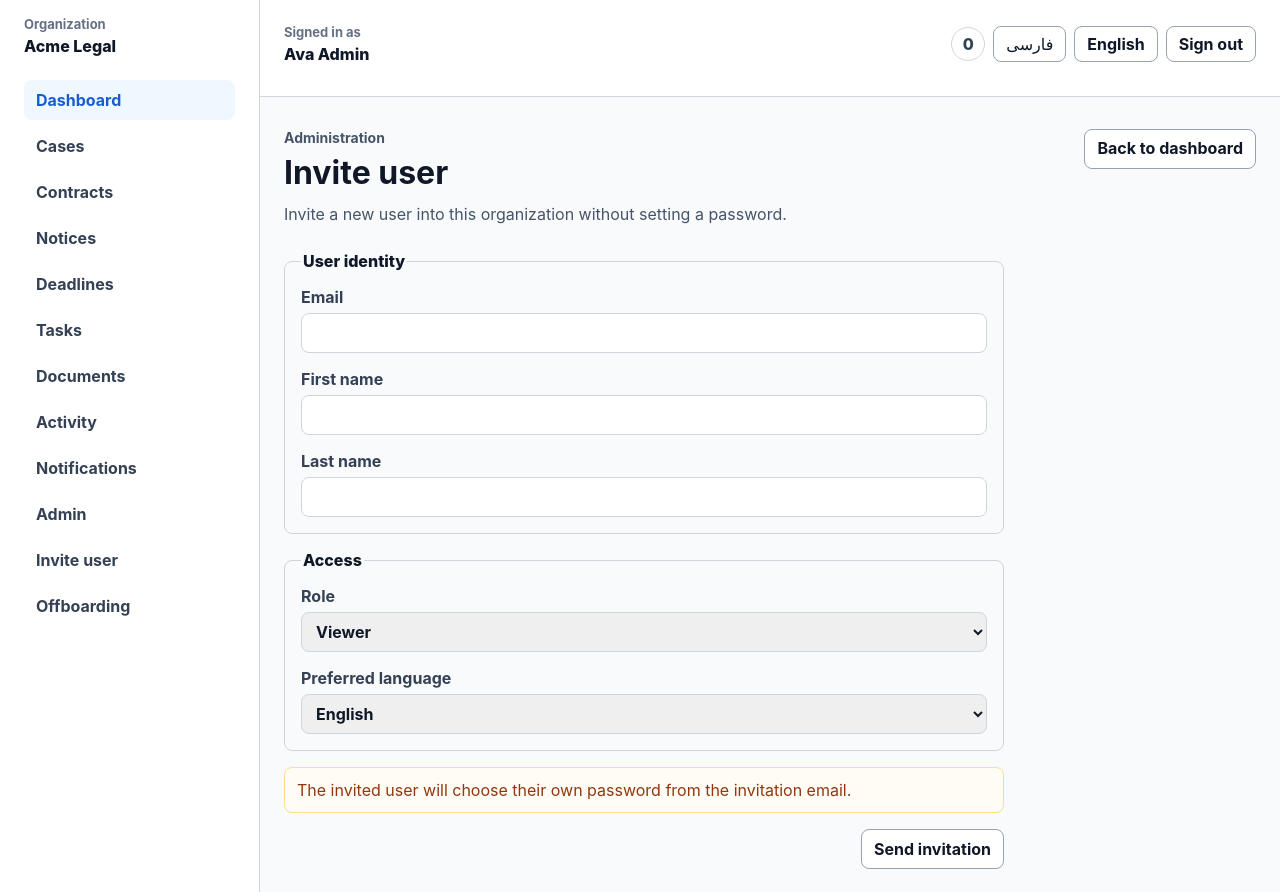
it: shows duplicate email and rate limit errors safely
Type "new.user@example.test" into the field labelled "Email" at (644, 333), box left=301, top=313, right=987, bottom=353
Type "New" into the field labelled "First name" at (644, 415), box left=301, top=395, right=987, bottom=435
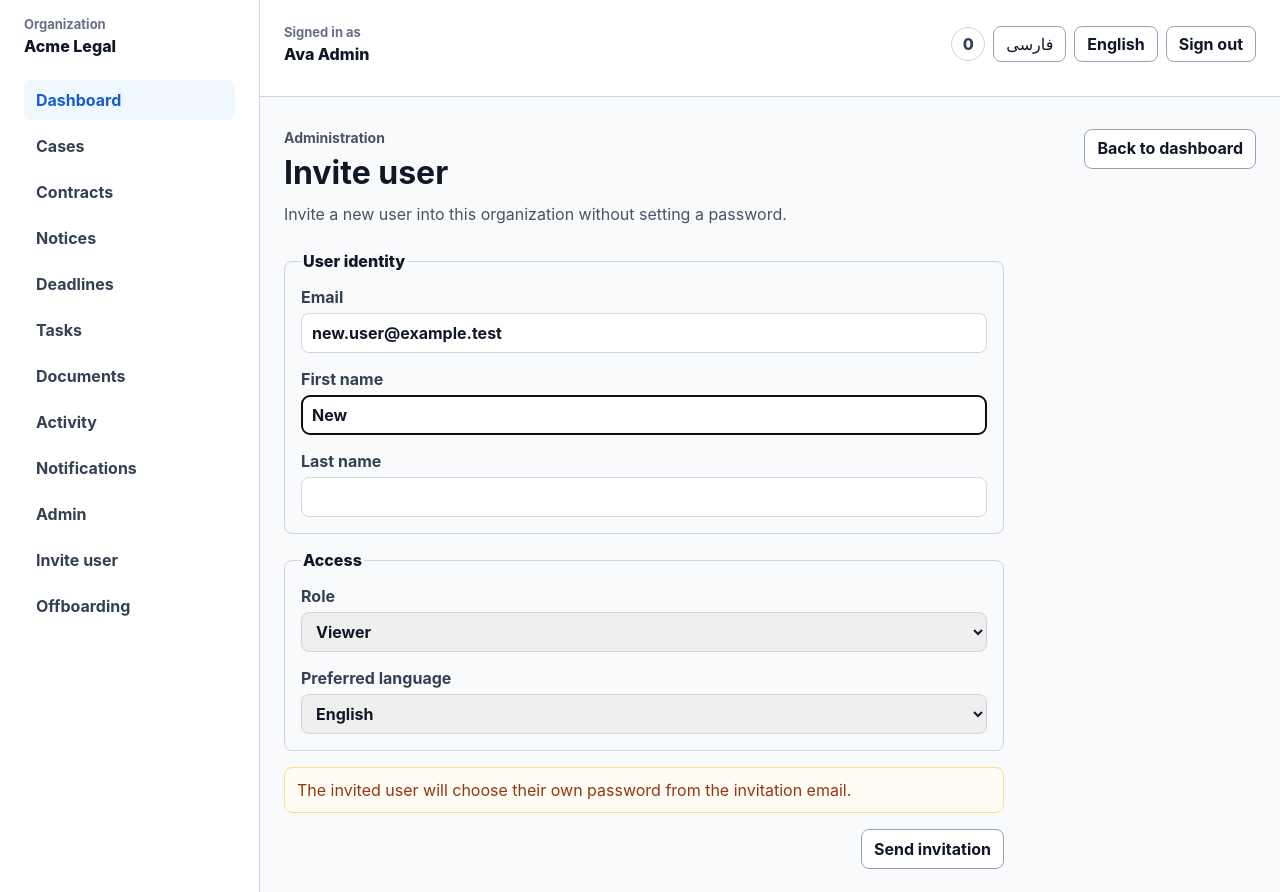
Type "User" into the field labelled "Last name" at (644, 497), box left=301, top=477, right=987, bottom=517
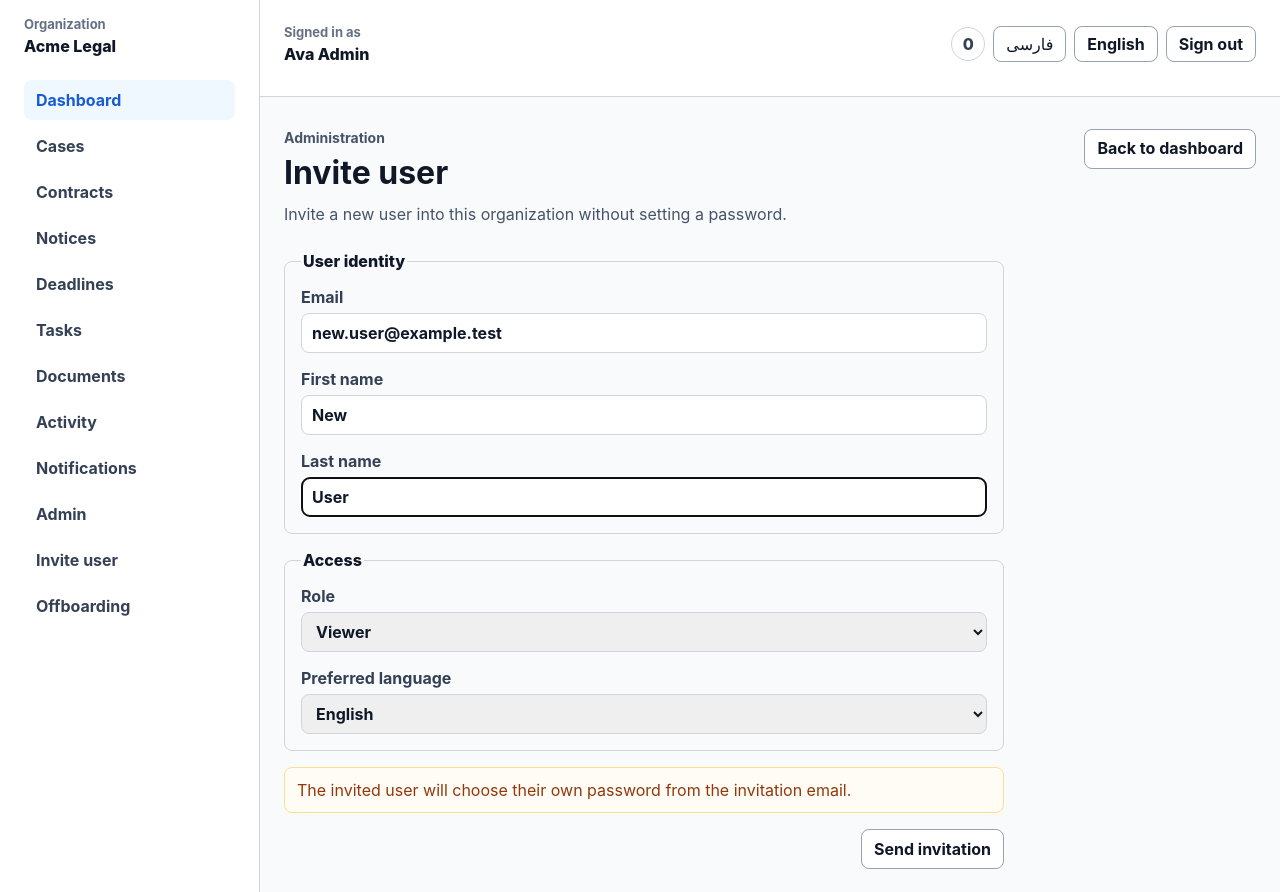
Select "Legal Manager" in the dropdown labelled "Role" at (644, 632), box left=301, top=612, right=987, bottom=652
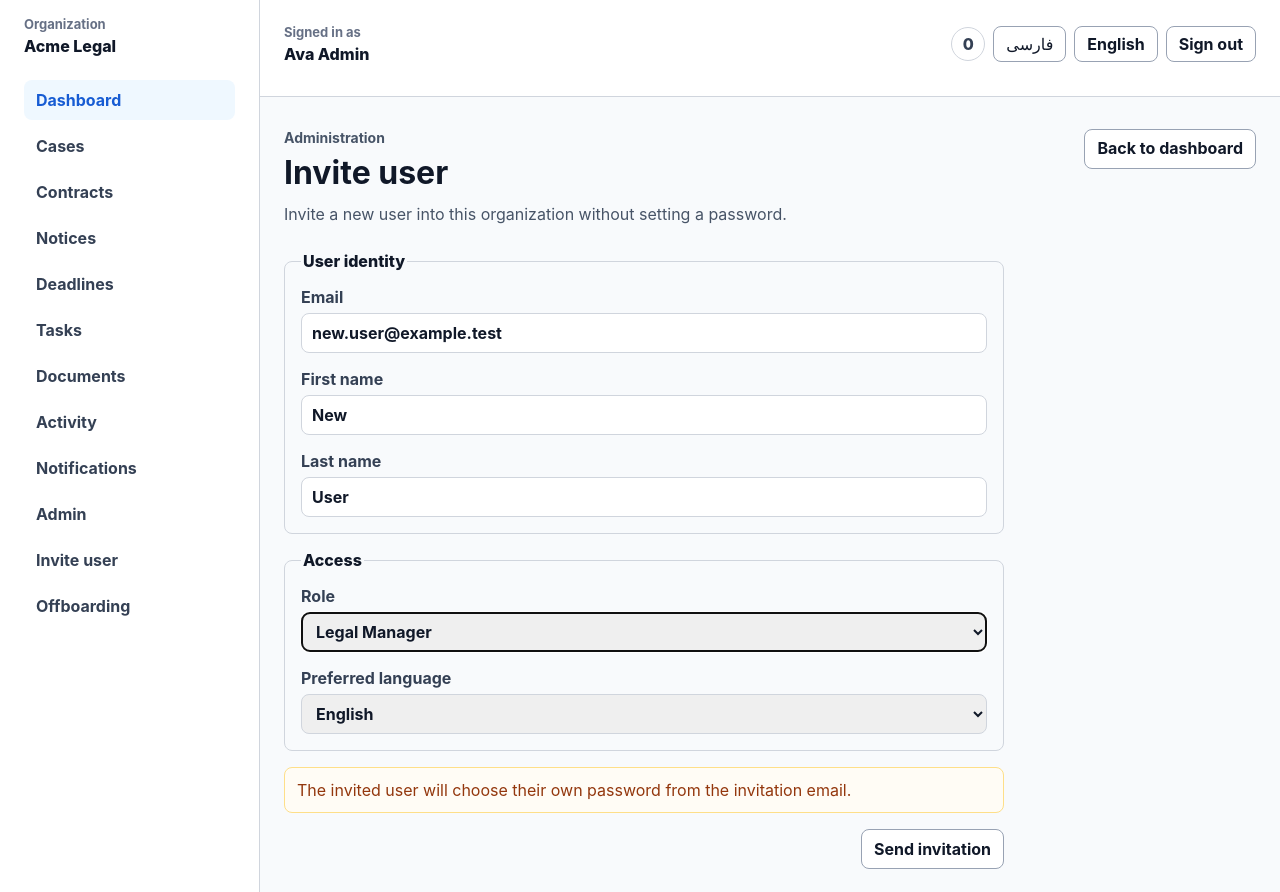
Select "فارسی" in the dropdown labelled "Preferred language" at (644, 714), box left=301, top=694, right=987, bottom=734
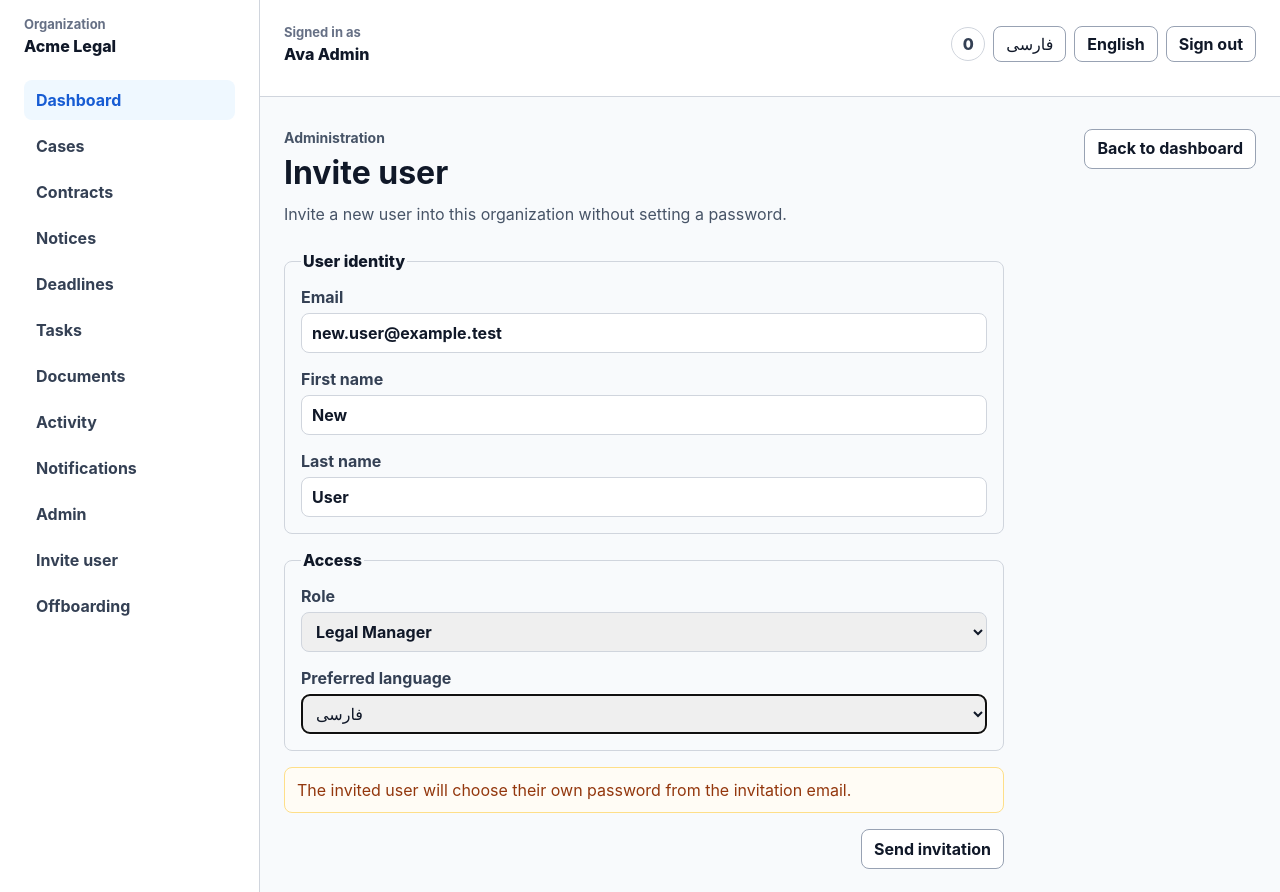
Click the button "Send invitation" at (932, 849), box left=861, top=829, right=1004, bottom=869
(page scrolled)
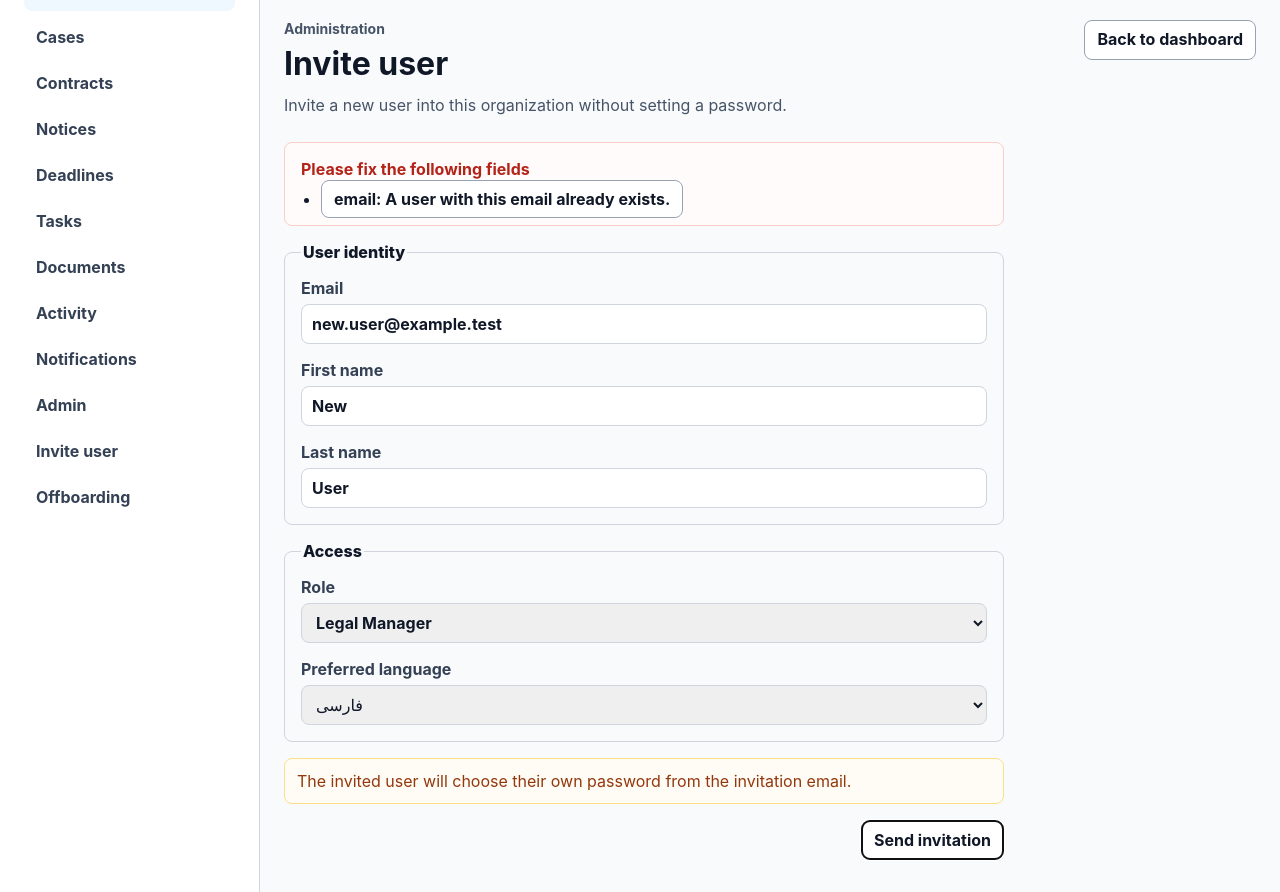
Expected: the message shows "A user with this email already exists.", left=321, top=180, right=683, bottom=218
Click the button "Send invitation" at (932, 840), box left=861, top=820, right=1004, bottom=860
(page scrolled)
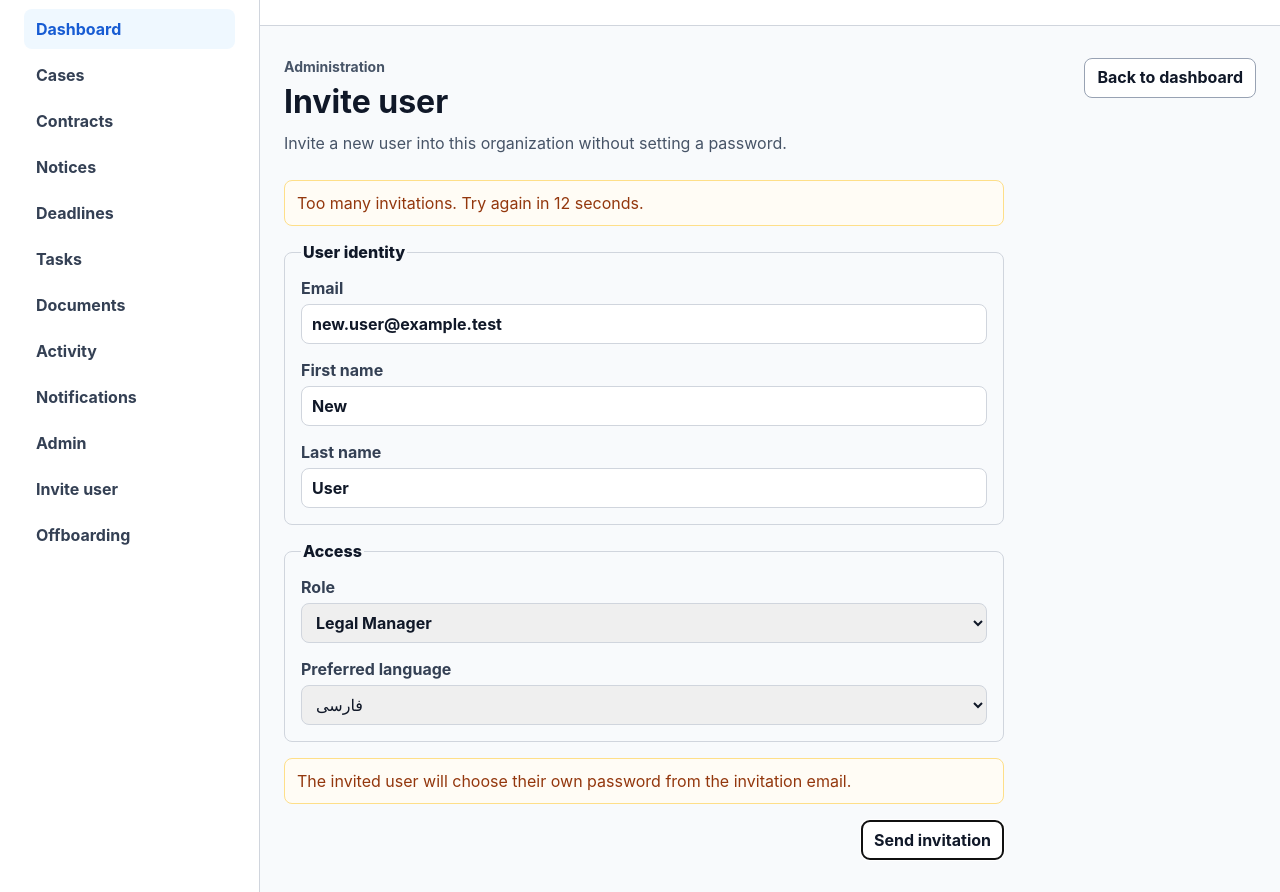
Expected: the message shows "12 seconds", left=297, top=193, right=644, bottom=213
